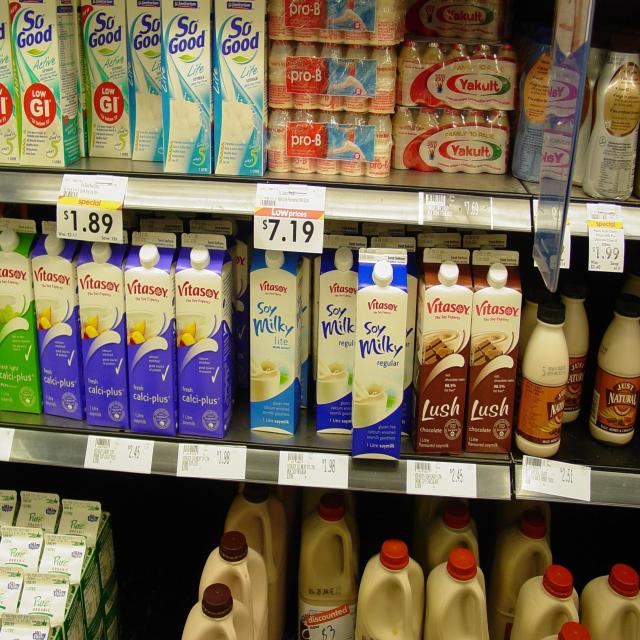empty_space: (117, 502, 182, 640)
